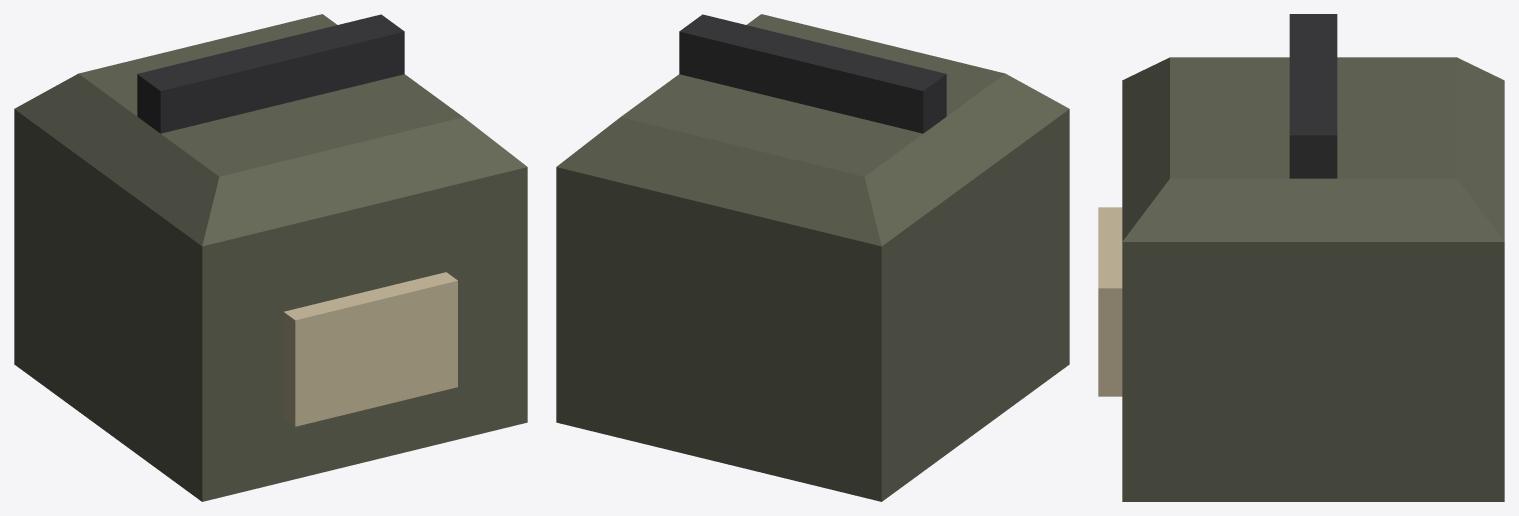
File: caja_v2.glb
3 views of the same model, side by side, from view 1: azimuth 30°, elevation 25°; view 2: azimuth 150°, elevation 25°; view 3: azimuth 270°, elevation 25° (orthographic).
Parts seen in each view (by area): view 1: caja_v2; view 2: caja_v2; view 3: caja_v2.
Part boxes in pixels (x1=…): caja_v2: x1=14, y1=14, x2=527, y2=501; caja_v2: x1=556, y1=14, x2=1069, y2=501; caja_v2: x1=1098, y1=14, x2=1504, y2=501.
Bounding box in the file's own units: 0.63 × 0.63 × 0.6694.
